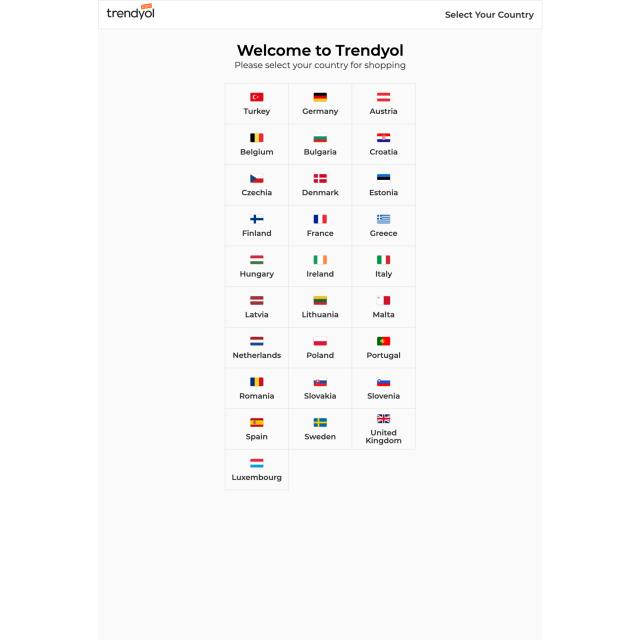logo: (105, 2, 159, 21)
